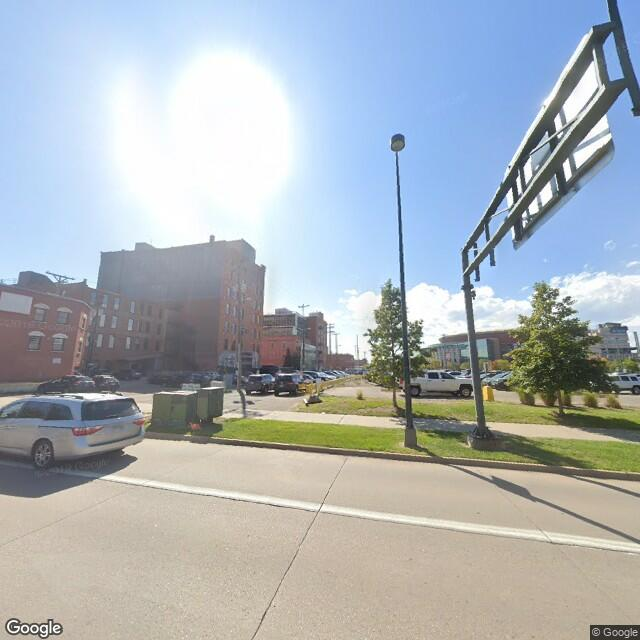lamp: (386, 131, 425, 447)
